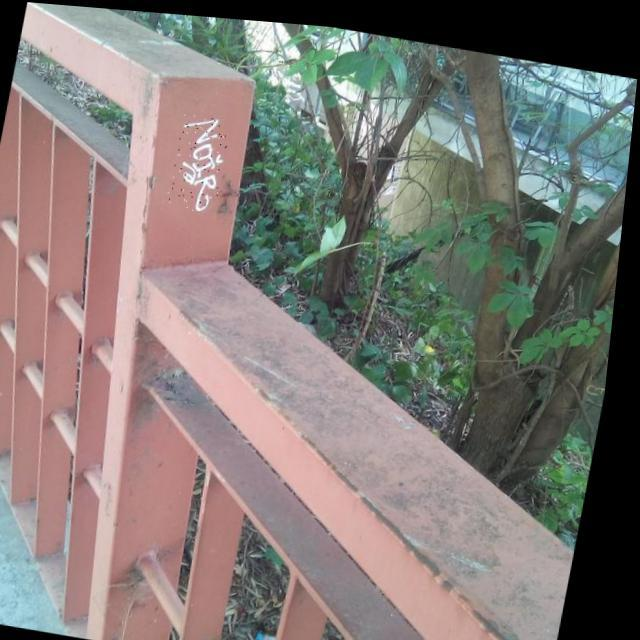-: (168, 108, 234, 214)
